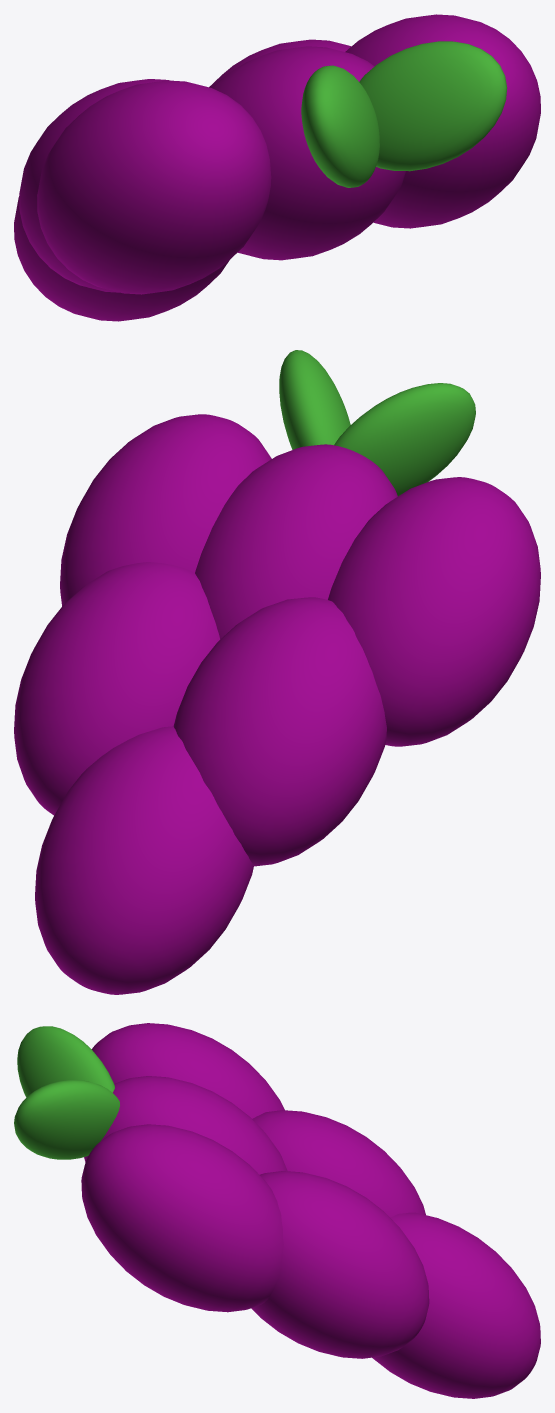
The model's file is GGrapes.FBX.
The picture shows the model from 3 angles, top to bottom: view 1: azimuth 30°, elevation 25°; view 2: azimuth 150°, elevation 25°; view 3: azimuth 270°, elevation 25°; orthographic projection. The views are drawn at different scales.
Parts seen in each view (by area): view 1: Sphere092, Sphere088, Sphere091, Sphere090, Sphere089, Sphere095, Sphere093, Sphere094; view 2: Sphere095, Sphere092, Sphere093, Sphere094, Sphere088, Sphere091, Sphere089, Sphere090; view 3: Sphere091, Sphere094, Sphere095, Sphere092, Sphere093, Sphere088, Sphere090, Sphere089.
Part boxes in pixels (x1=…): Sphere092: x1=37, y1=80, x2=271, y2=294; Sphere088: x1=212, y1=46, x2=405, y2=260; Sphere091: x1=345, y1=14, x2=540, y2=228; Sphere090: x1=359, y1=41, x2=507, y2=171; Sphere089: x1=301, y1=65, x2=379, y2=187; Sphere095: x1=14, y1=196, x2=229, y2=321; Sphere093: x1=19, y1=79, x2=169, y2=292; Sphere094: x1=209, y1=39, x2=351, y2=87; Sphere095: x1=35, y1=726, x2=253, y2=994; Sphere092: x1=328, y1=477, x2=540, y2=746; Sphere093: x1=173, y1=597, x2=386, y2=866; Sphere094: x1=14, y1=562, x2=220, y2=815; Sphere088: x1=195, y1=444, x2=397, y2=638; Sphere091: x1=60, y1=414, x2=271, y2=606; Sphere089: x1=334, y1=383, x2=475, y2=496; Sphere090: x1=279, y1=350, x2=350, y2=449; Sphere091: x1=81, y1=1124, x2=283, y2=1312; Sphere094: x1=251, y1=1171, x2=429, y2=1358; Sphere095: x1=372, y1=1212, x2=540, y2=1398; Sphere092: x1=91, y1=1023, x2=284, y2=1118; Sphere093: x1=252, y1=1110, x2=425, y2=1217; Sphere088: x1=84, y1=1076, x2=287, y2=1174; Sphere090: x1=14, y1=1080, x2=119, y2=1159; Sphere089: x1=17, y1=1026, x2=114, y2=1097.
Size of the model in its own units: 8.13 by 10.44 by 7.5.
Materials: 8 (8 with a texture image).
